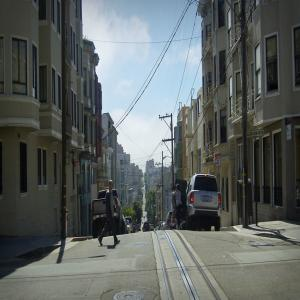Vehicle-registration-plate: (204, 196, 210, 204)
